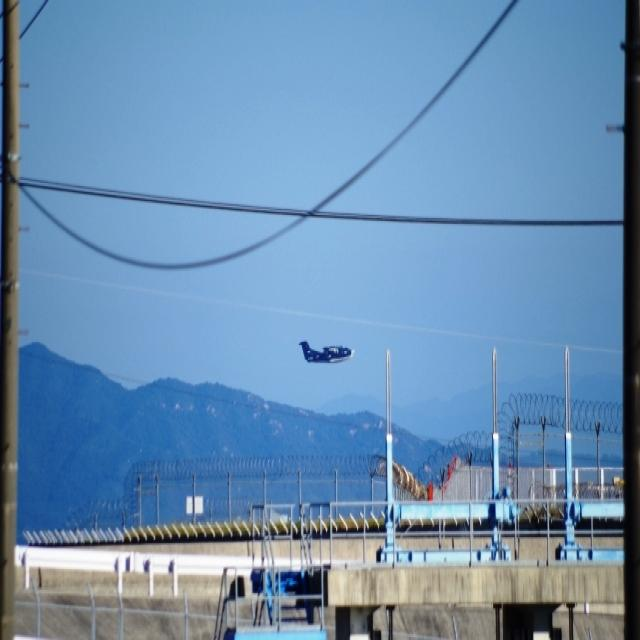MIL_Plane: (297, 339, 356, 365)
